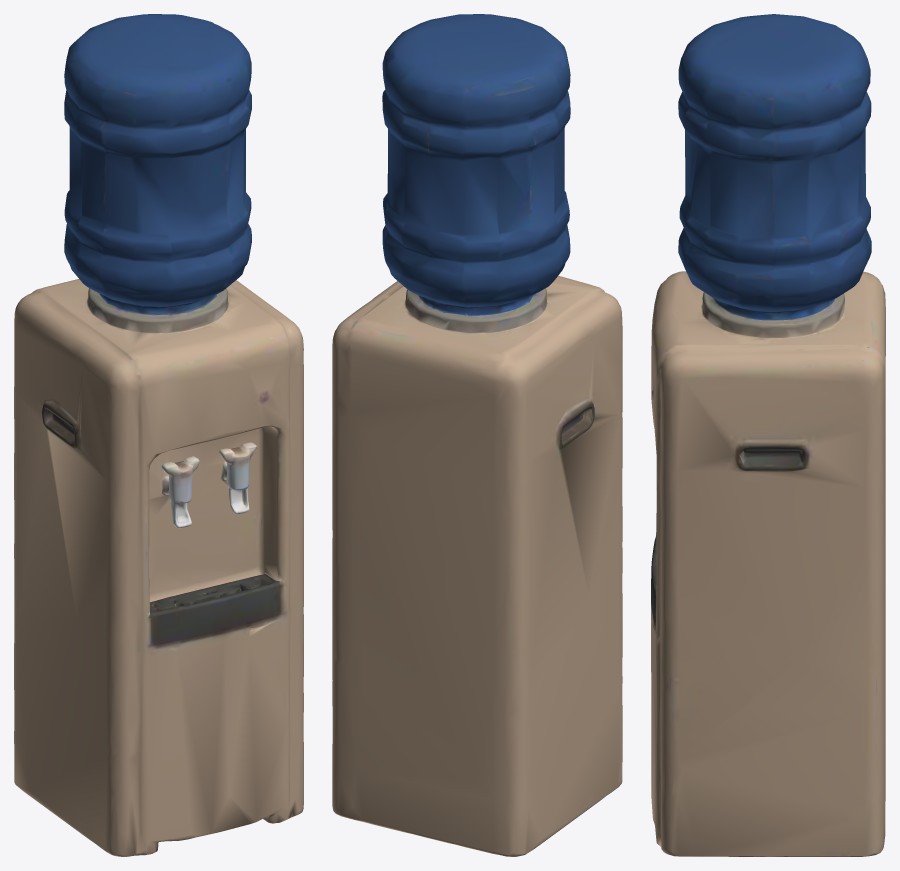
The model's file is water_dispenser.glb.
3 renders of one model, left to right at view 1: azimuth 30°, elevation 25°; view 2: azimuth 150°, elevation 25°; view 3: azimuth 270°, elevation 25°, orthographic.
Visible parts, largest first — view 1: geometry_0; view 2: geometry_0; view 3: geometry_0.
Part boxes in pixels (bbox=[...]): geometry_0: bbox=[14, 14, 303, 856]; geometry_0: bbox=[332, 14, 622, 856]; geometry_0: bbox=[651, 14, 885, 856].
Bounding box in the file's own units: 0.2797 × 1 × 0.2793.
Materials: 1 (1 with a texture image).
